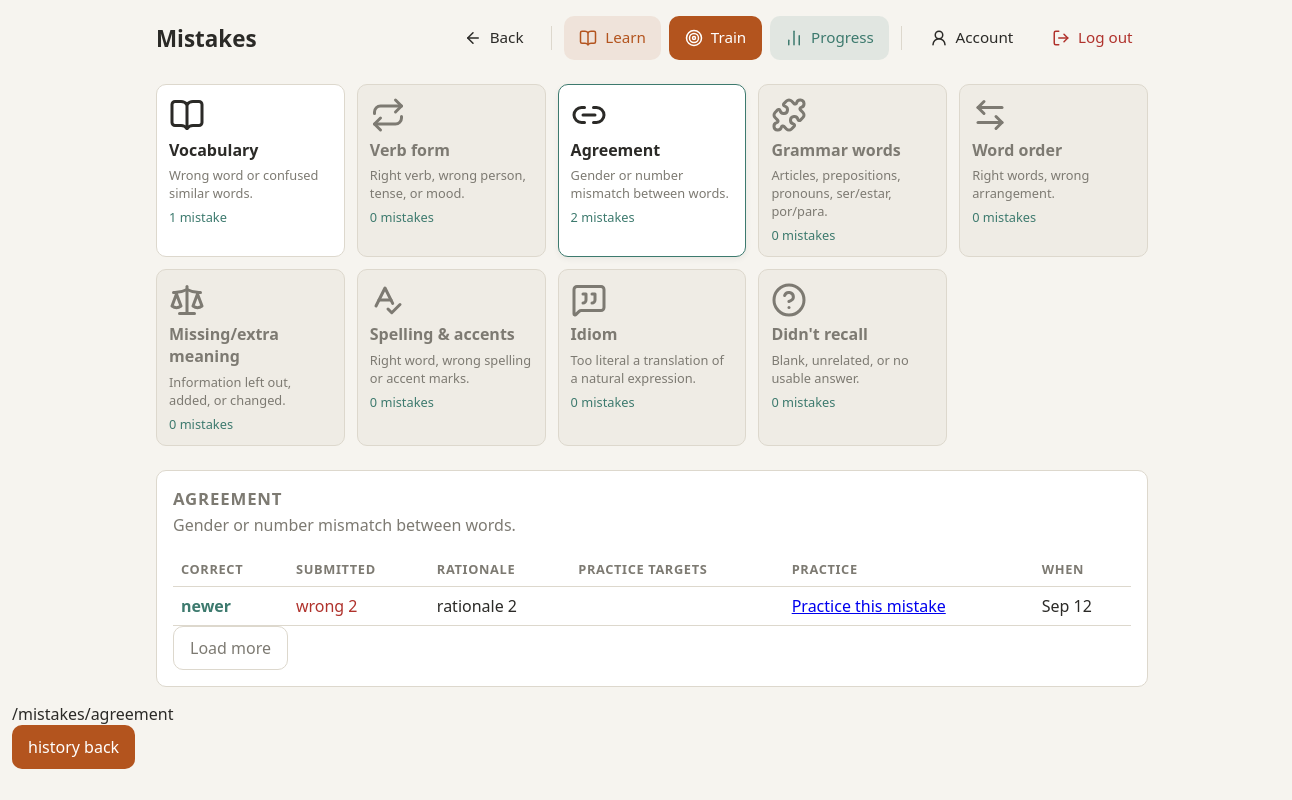
Test: MistakesPage › keeps loaded pages when switching away and back (no refetch)
Expected: the text "newer" is shown, [173,586,288,625]
Click the button "Load more".
click(230, 648)  # box [173,626,288,670]
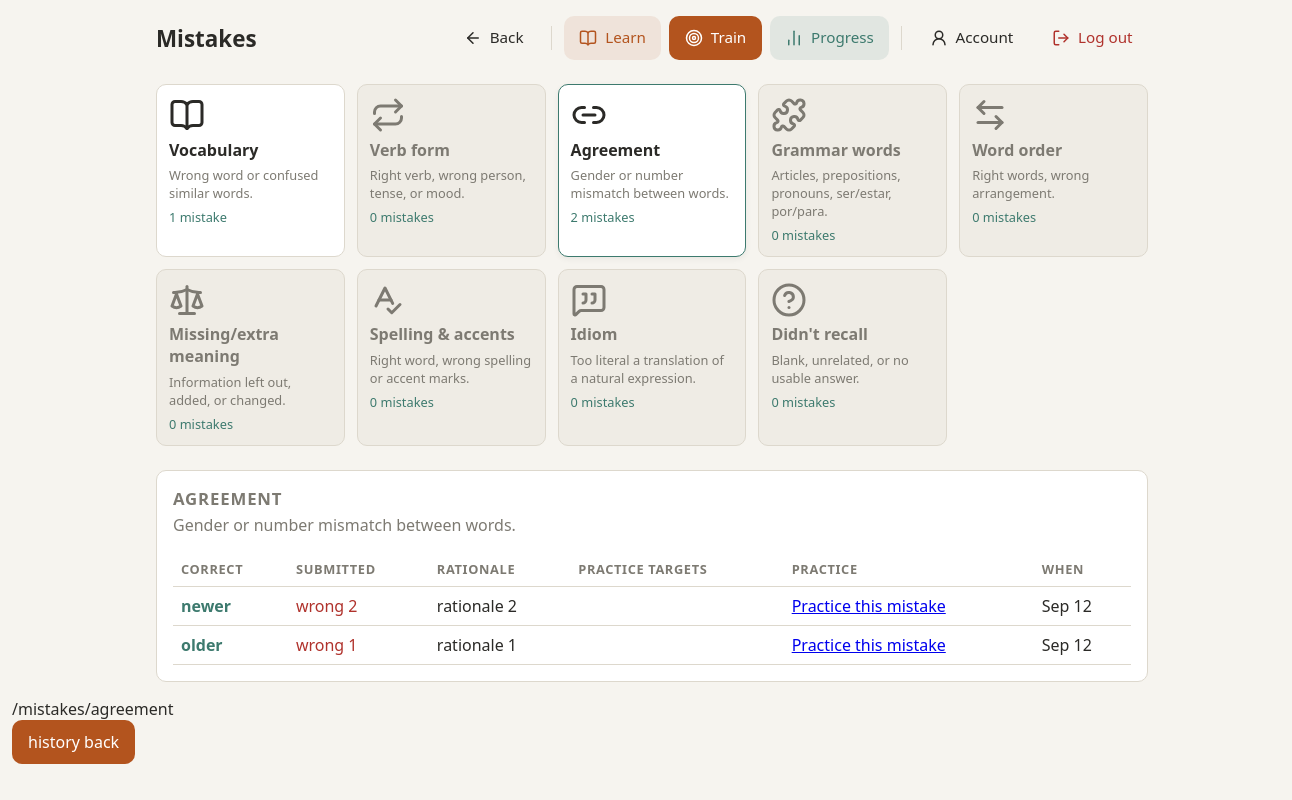
Now the text "older" is shown, box [173,625,288,664]
Click the button "Vocabulary Wrong word or confused similar words. 1 mistake".
click(250, 161)  # box [169,97,332,226]
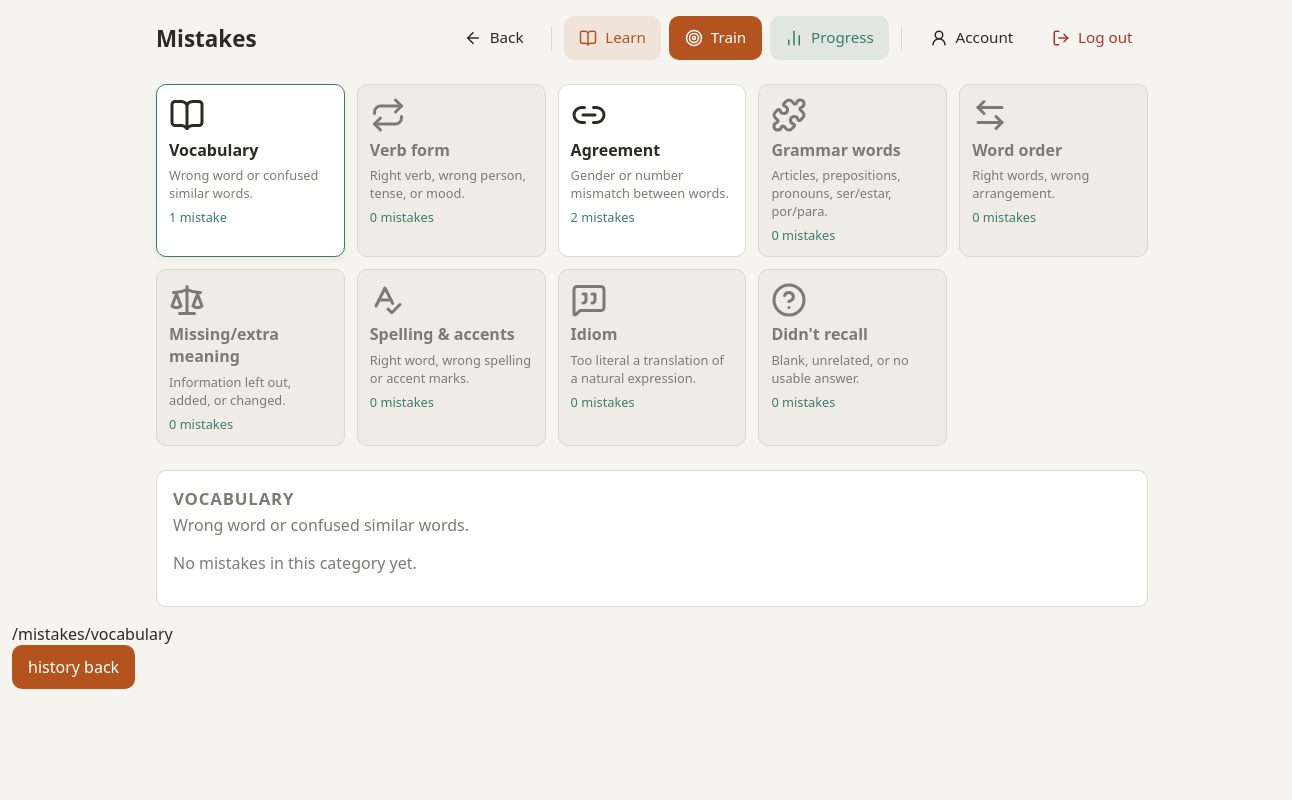
Now the text with test id "location" reads "/mistakes/vocabulary", box [12,623,173,645]
Click the button "Agreement".
click(652, 161)  # box [571,97,733,226]
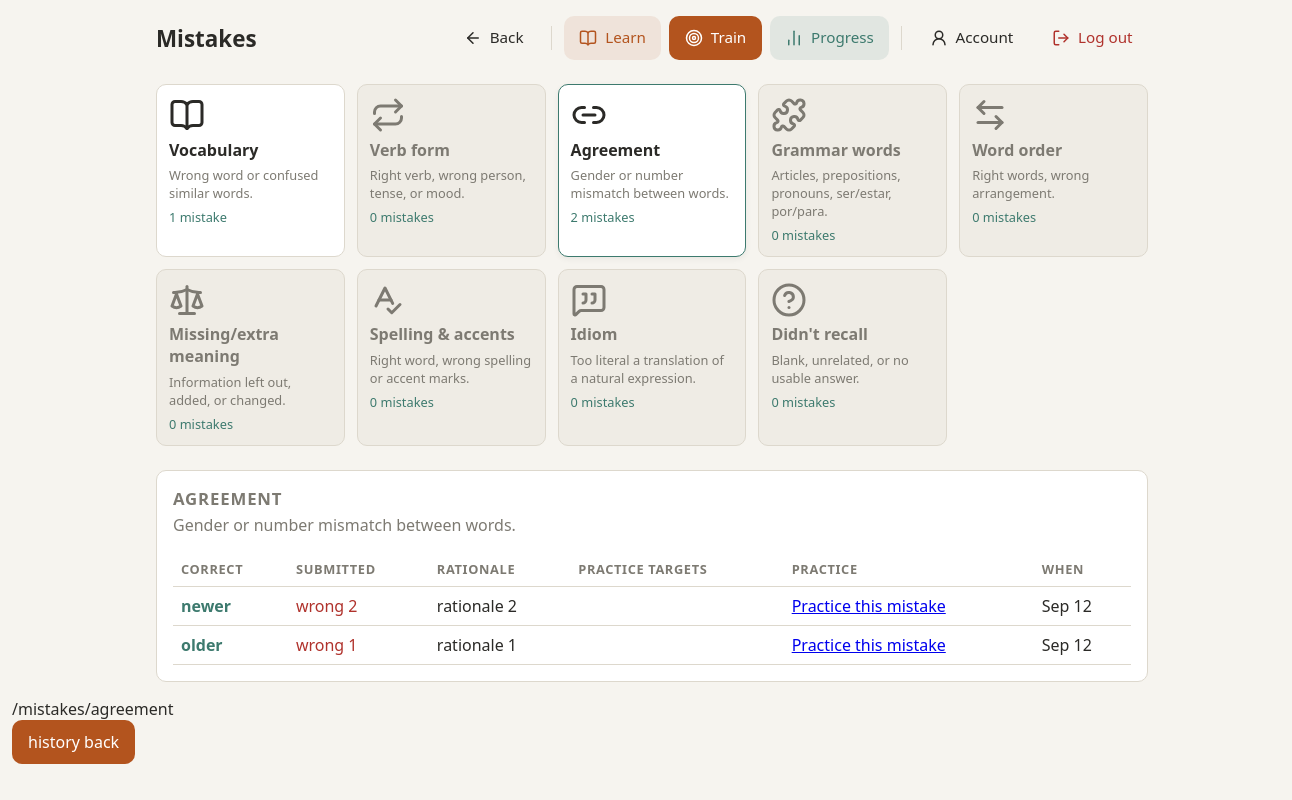
Now the text "older" is shown, box [173,625,288,664]
Now the text "newer" is shown, box [173,586,288,625]
